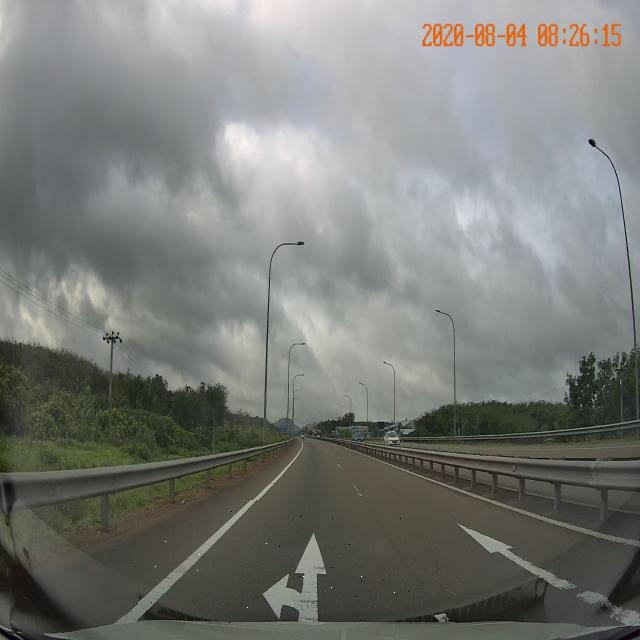forward_lft: (139, 501, 455, 623)
